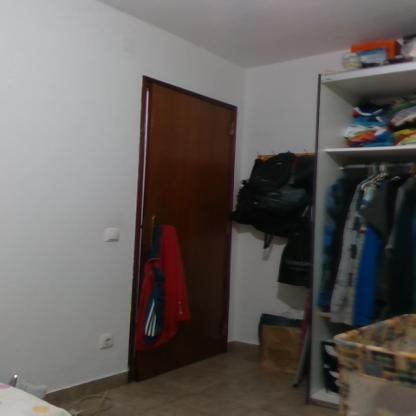closed: (127, 72, 245, 377)
